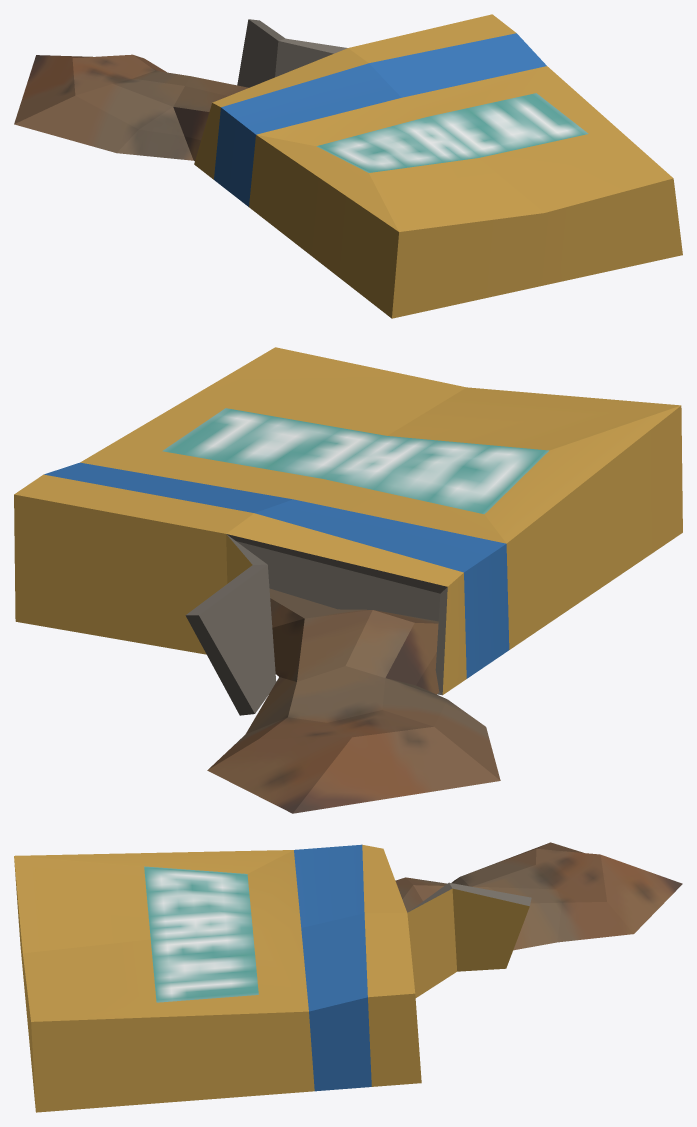
File: SM_Item_Shop_Goods_04.obj
3 views of the same model, one above another, from view 1: azimuth 30°, elevation 25°; view 2: azimuth 150°, elevation 25°; view 3: azimuth 270°, elevation 25° (orthographic). The views are drawn at different scales.
Visible parts, largest first — view 1: SM_Item_Shop_Goods_04_0; view 2: SM_Item_Shop_Goods_04_0; view 3: SM_Item_Shop_Goods_04_0.
Boxes of the visible parts, bbox=[...] form: SM_Item_Shop_Goods_04_0: bbox=[14, 14, 682, 318]; SM_Item_Shop_Goods_04_0: bbox=[14, 347, 682, 813]; SM_Item_Shop_Goods_04_0: bbox=[14, 842, 682, 1112].
Size of the model in its own units: 0.4247 by 0.1151 by 0.5588.
Materials: 1 (1 with a texture image).
